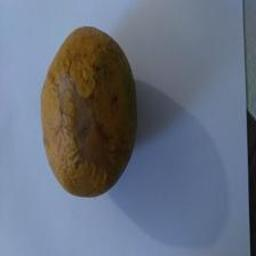Orange Semirotten: (28, 24, 148, 204)
